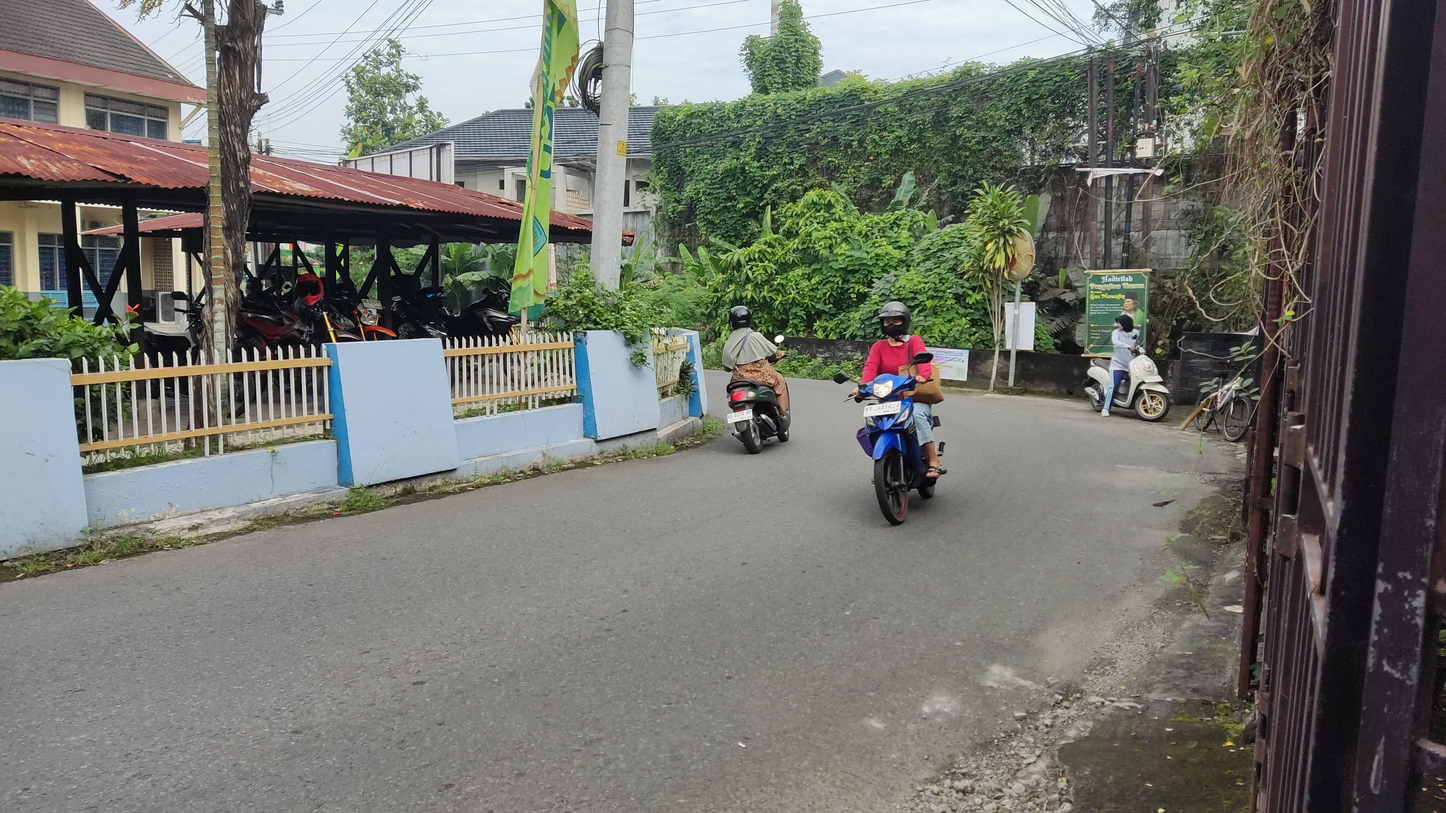helm: (876, 300, 912, 344), (725, 305, 754, 332)
riding: (836, 291, 960, 530), (716, 302, 804, 458)
